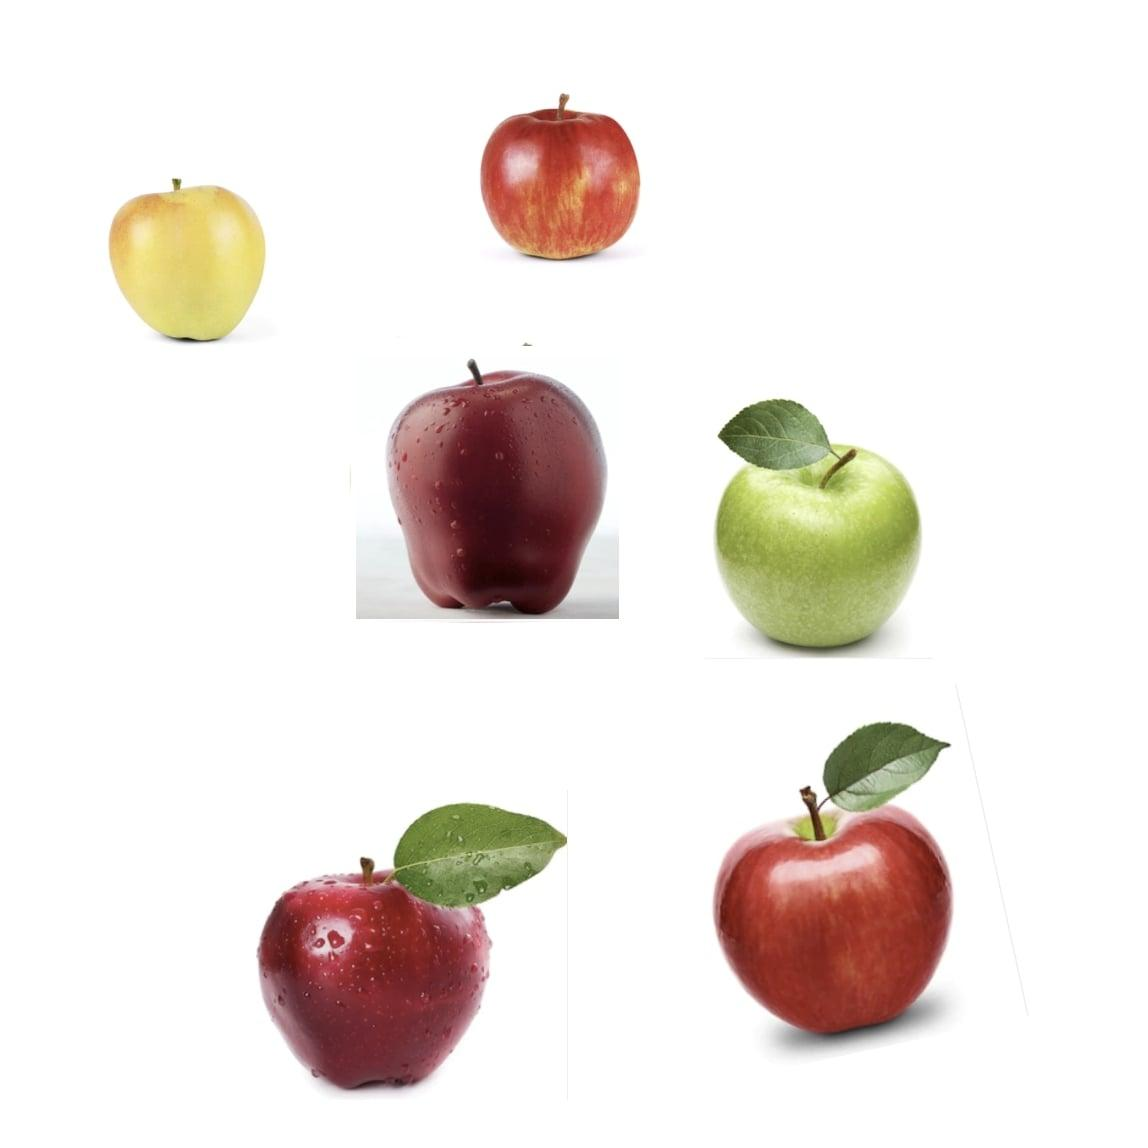Apple: (712, 785, 955, 1038), (255, 857, 492, 1088), (389, 360, 604, 611), (712, 443, 921, 649), (481, 93, 642, 262), (106, 181, 267, 342)
